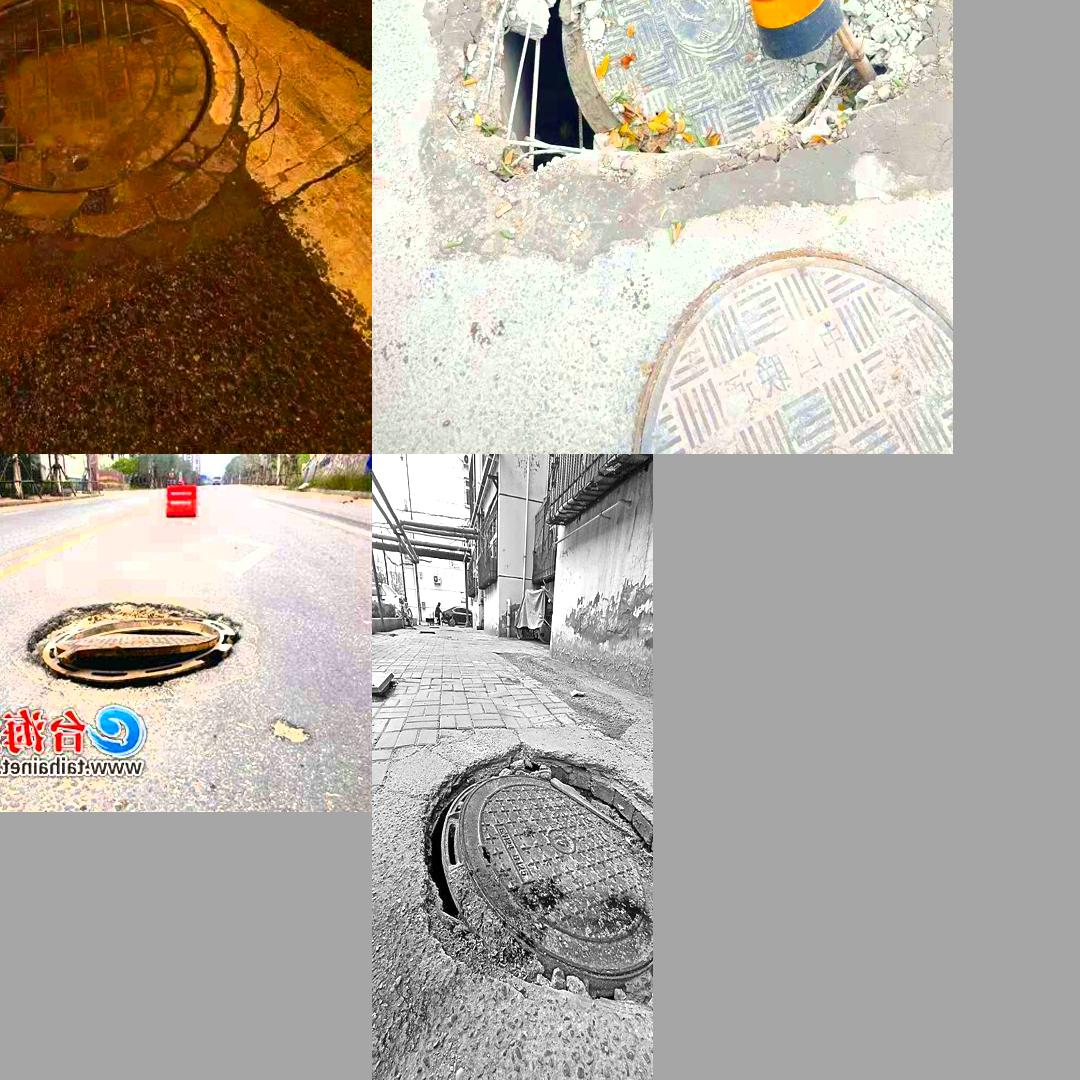circle: (0, 0, 330, 309), (409, 728, 652, 1079), (495, 0, 865, 155), (0, 591, 288, 709)
